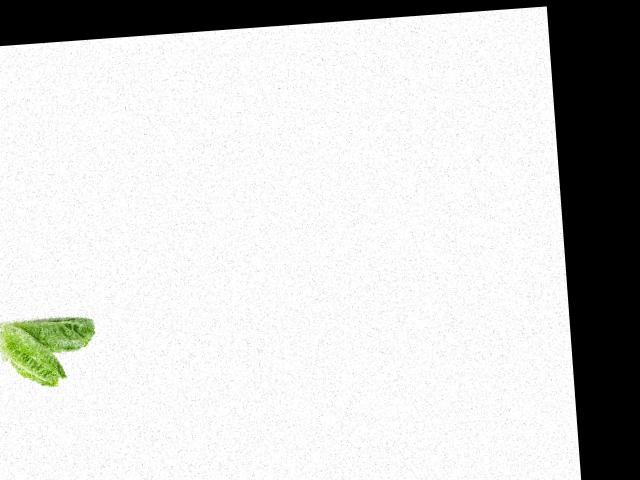lettuce: (8, 308, 103, 358)
